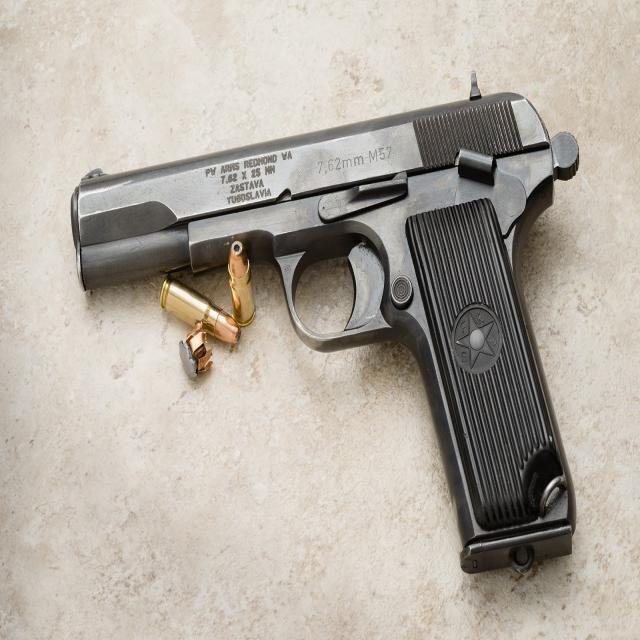Pistol: (59, 61, 631, 598)
